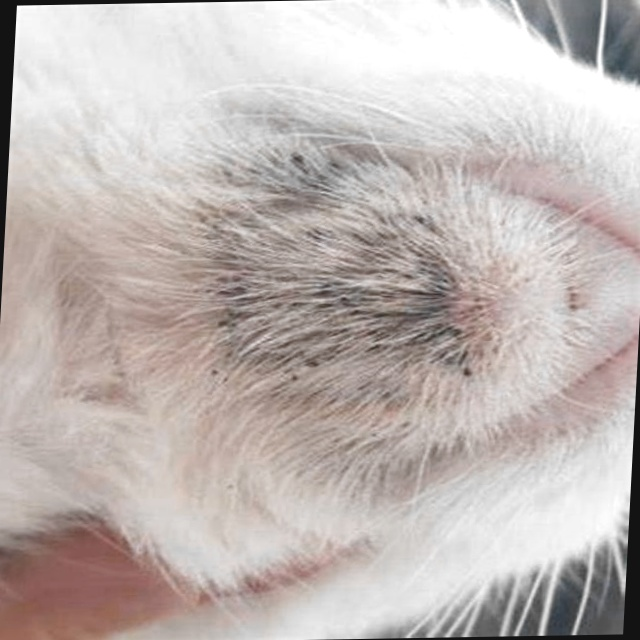acne: (197, 152, 495, 430)
